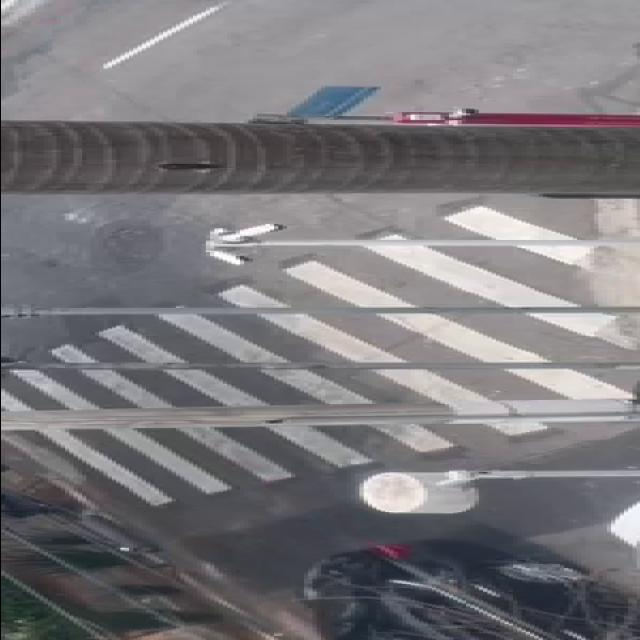car: (286, 533, 600, 640)
